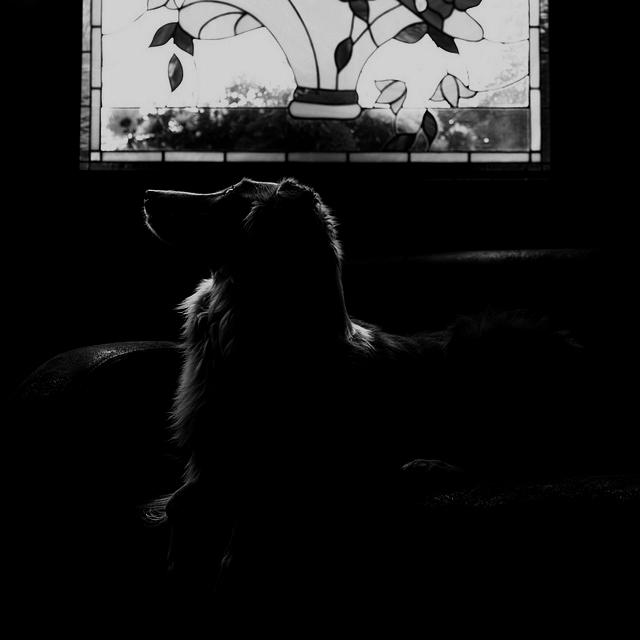Dog: (80, 126, 577, 596)
